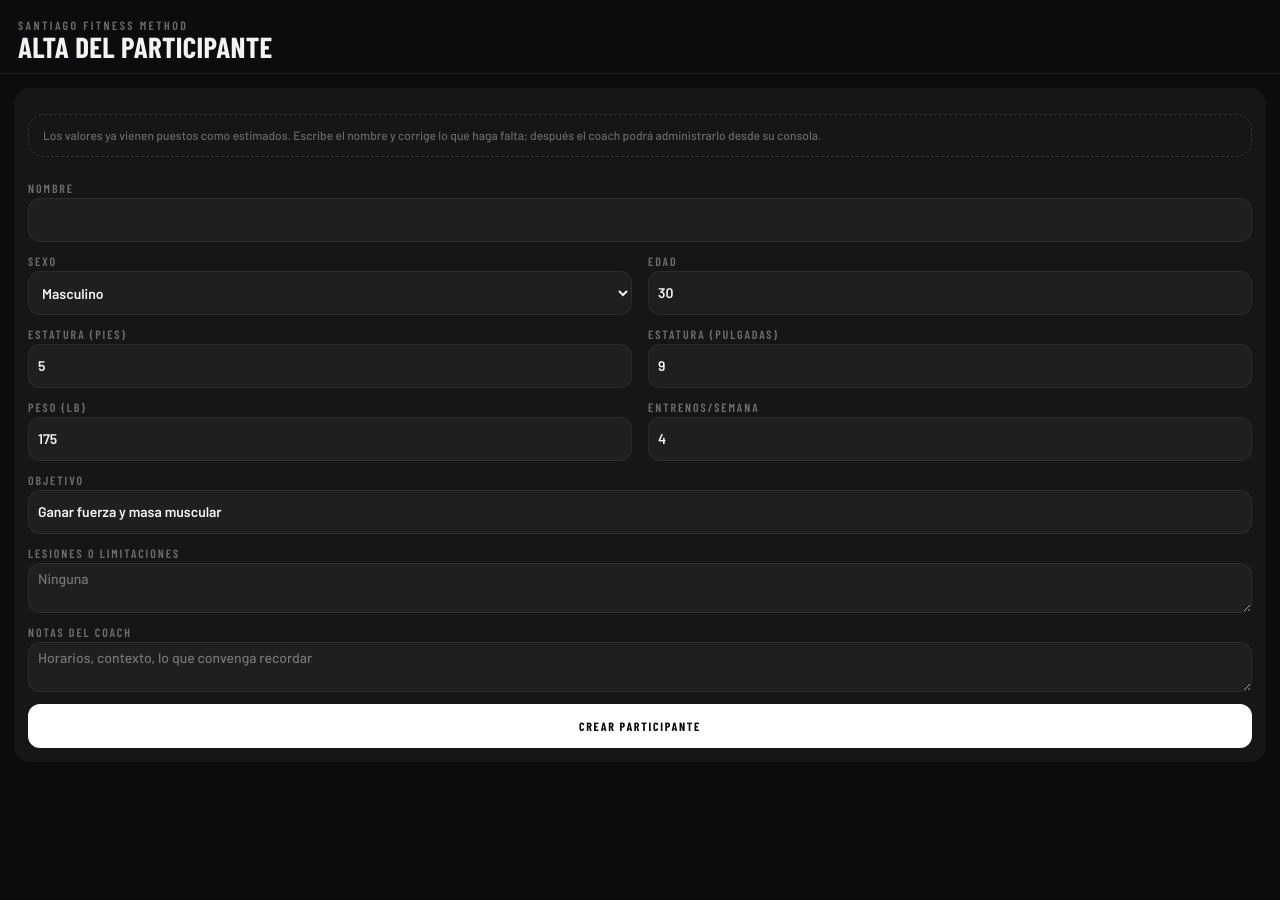
alta del participante (criterio 1) › sin nombre no crea nada y dice por qué
The width and height of the screenshot is (1280, 900).
Step 1. Click the button "Crear participante" → (640, 726), box 28,704 -> 1252,748
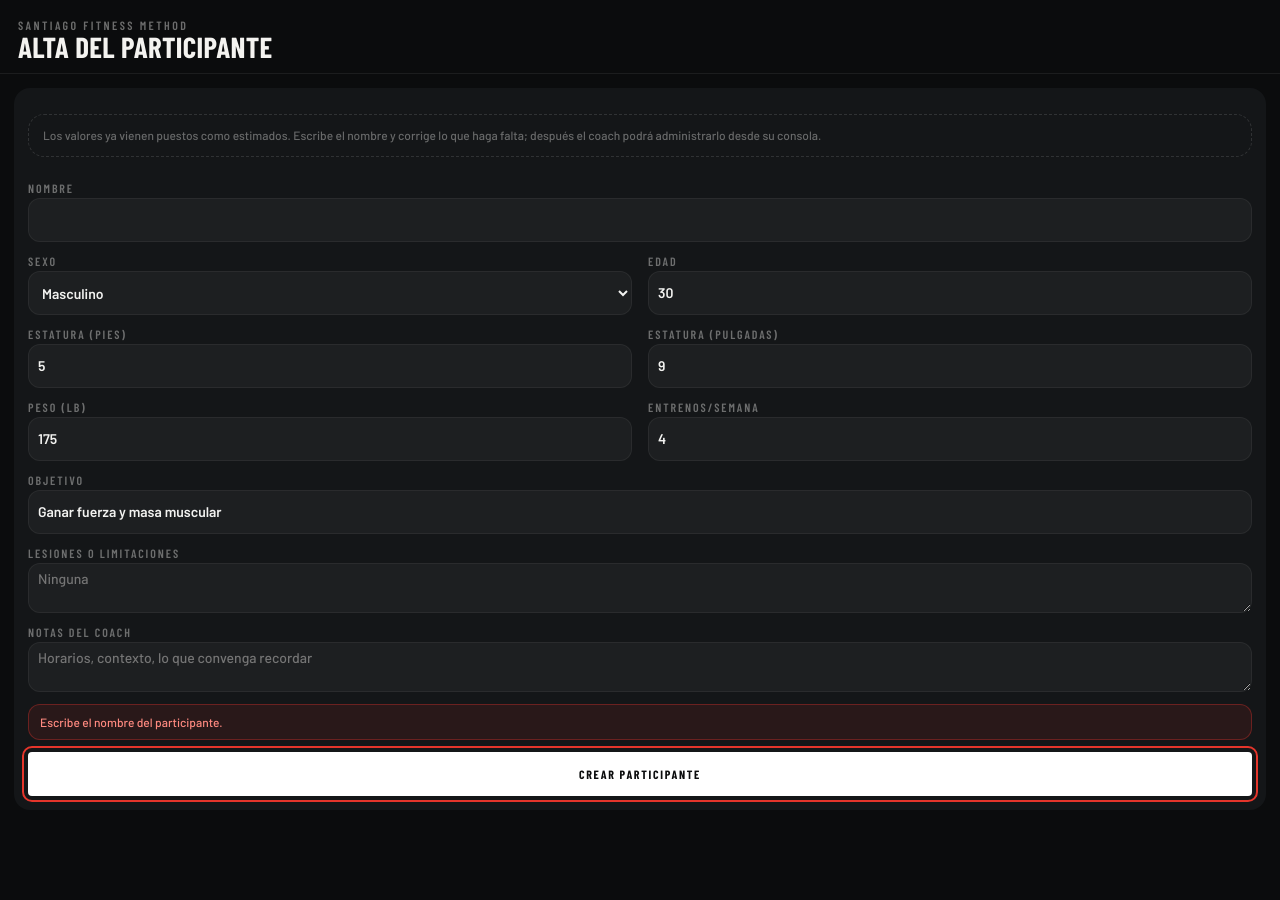
Expected: the text "Escribe el nombre del participante." is shown, 40,715 -> 222,729
